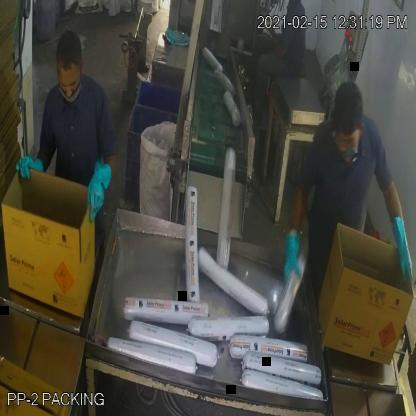glove: (388, 199, 416, 290), (278, 210, 309, 291), (84, 158, 116, 227), (8, 149, 49, 194)
